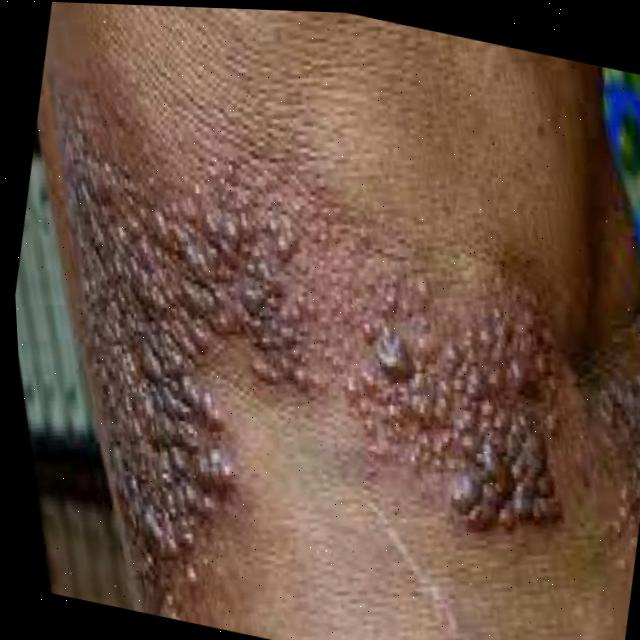Shingles: (7, 134, 311, 624), (317, 291, 560, 552), (546, 333, 640, 576)
